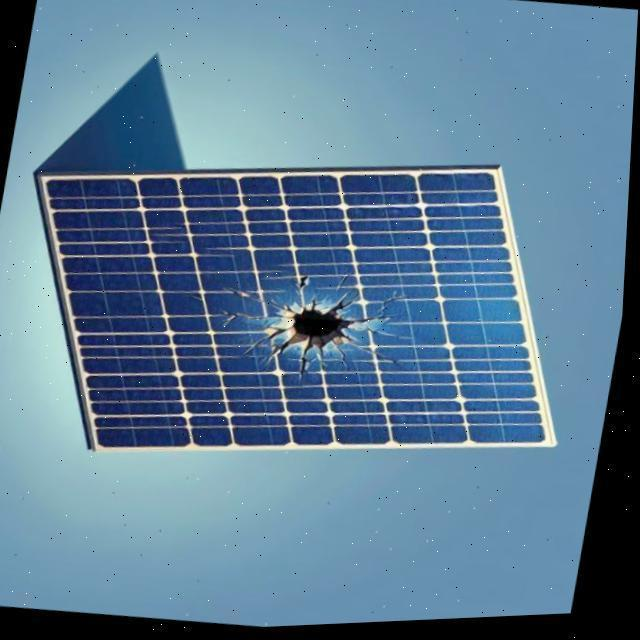Anomaly Solar Panel: (29, 176, 570, 450)
Structural Damage: (267, 305, 359, 357), (223, 279, 303, 320), (349, 339, 411, 375), (222, 310, 297, 337), (349, 323, 420, 351), (295, 353, 323, 386), (245, 335, 278, 362), (379, 293, 416, 317), (286, 271, 322, 295), (333, 342, 358, 372), (341, 290, 366, 315), (355, 317, 405, 329), (310, 295, 333, 318), (340, 275, 354, 294)
